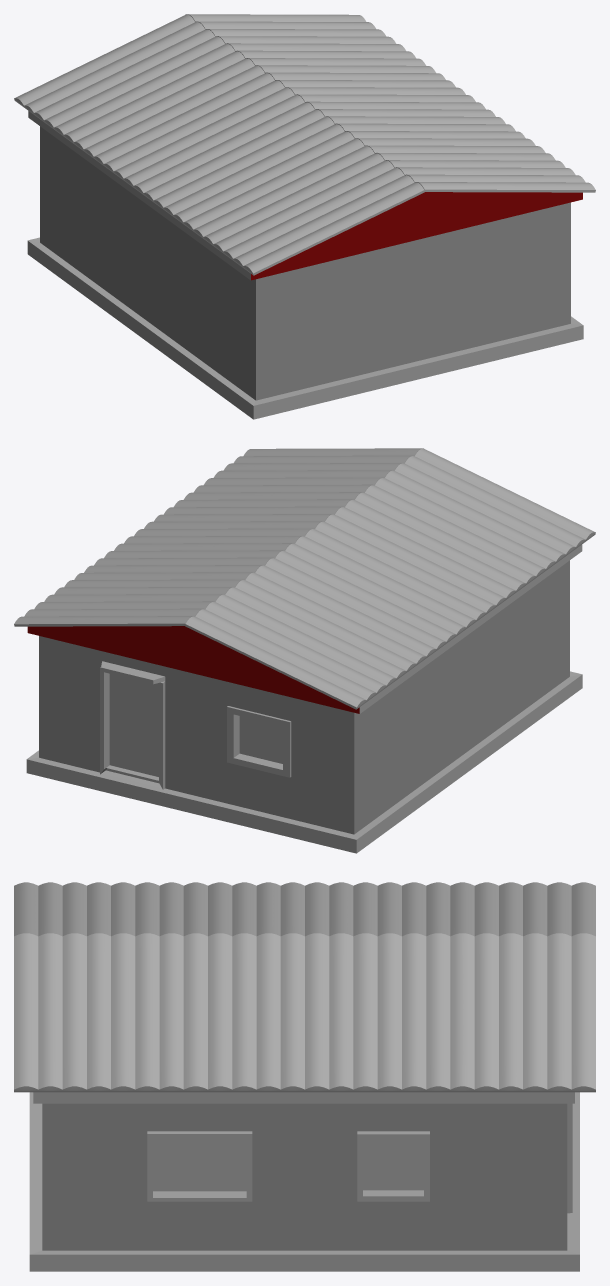
The model's file is main-building1.fbx.
3 renders of one model, top to bottom at view 1: azimuth 30°, elevation 25°; view 2: azimuth 150°, elevation 25°; view 3: azimuth 270°, elevation 25°, orthographic. The views are drawn at different scales.
Visible parts, largest first — view 1: wall, Roof_right, Roof_left, Base, Upper_side; view 2: wall, Roof_right, Roof_left, Base, Upper_side, door, Window_side_frame_outside, Glass, polySurface8, roof_thingy, Inside_frame; view 3: Roof_left, wall, Roof_right, Base, glass (×2), Upper_side, frame (×2), polySurface8.
Part boxes in pixels (x1=…): wall: x1=40, y1=126, x2=570, y2=400; Roof_right: x1=14, y1=14, x2=424, y2=275; Roof_left: x1=185, y1=14, x2=595, y2=192; Base: x1=27, y1=237, x2=583, y2=419; Upper_side: x1=28, y1=111, x2=582, y2=280; wall: x1=39, y1=560, x2=569, y2=834; Roof_right: x1=185, y1=448, x2=595, y2=709; Roof_left: x1=14, y1=448, x2=423, y2=626; Base: x1=26, y1=671, x2=582, y2=853; Upper_side: x1=27, y1=544, x2=582, y2=713; door: x1=109, y1=673, x2=158, y2=776; Window_side_frame_outside: x1=227, y1=706, x2=291, y2=777; Glass: x1=239, y1=716, x2=282, y2=763; polySurface8: x1=100, y1=667, x2=165, y2=789; roof_thingy: x1=101, y1=661, x2=165, y2=684; Inside_frame: x1=106, y1=673, x2=158, y2=780; Roof_left: x1=14, y1=933, x2=595, y2=1092; wall: x1=42, y1=1103, x2=567, y2=1250; Roof_right: x1=14, y1=882, x2=595, y2=936; Base: x1=29, y1=1092, x2=579, y2=1271; glass (×2): x1=153, y1=1137, x2=423, y2=1191; Upper_side: x1=33, y1=1092, x2=574, y2=1103; frame (×2): x1=147, y1=1131, x2=429, y2=1201; polySurface8: x1=567, y1=1103, x2=572, y2=1213.
Size of the model in its own units: 10.03 by 5.52 by 12.12.
